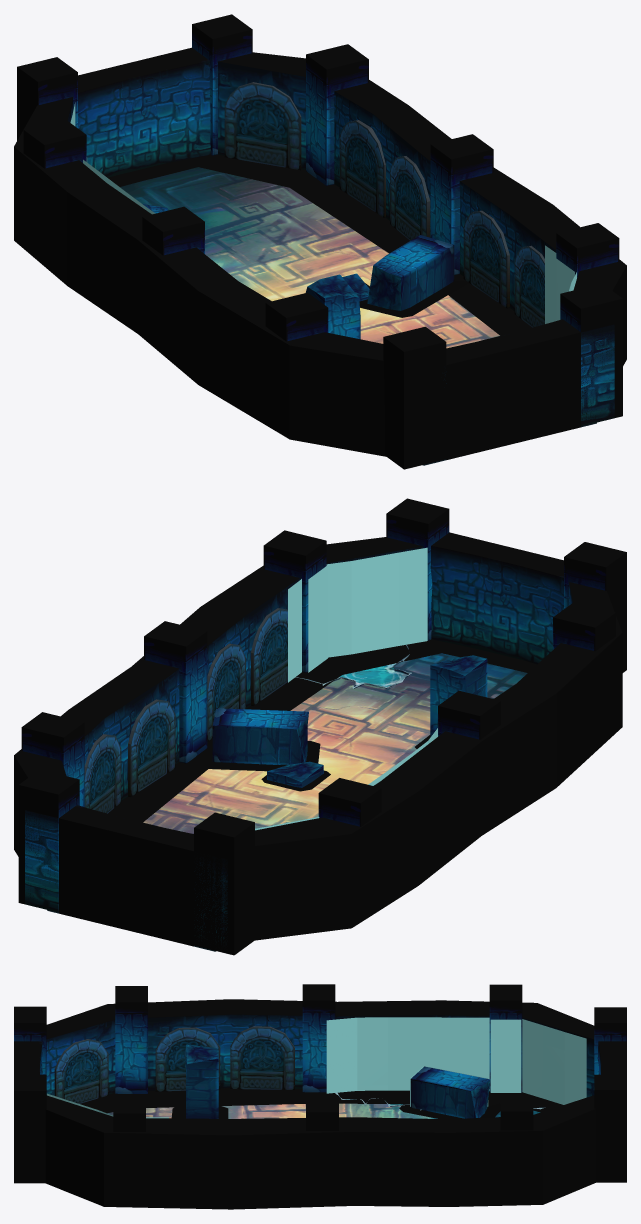
File: Dungeon_051_Road_002.fbx
3 views of the same model, one above another, from view 1: azimuth 30°, elevation 25°; view 2: azimuth 150°, elevation 25°; view 3: azimuth 270°, elevation 25° (orthographic). The views are drawn at different scales.
Parts seen in each view (by area): view 1: Dun_051_Road_002_Wall, Dun_051_Road_002_Pillar, Dun_051_Door_002 (×2), Dun_051_Road_002_Ground, Dun_051_Road_002_Wallobject, Dun_051_Road_002_shadow, Dun_051_Obj02_Pillar, Dun_051_Obj01_Pillar, Dun_051_Road_002_GroundWater_Terikaeshi, Dun_051_Obj02_Pillar_Shadow, Dun_011_Door_002_shadow; view 2: Dun_051_Road_002_Wall, Dun_051_Road_002_Pillar, Dun_051_Door_002 (×2), Dun_051_Road_002_Ground, Dun_051_Road_002_GroundWater_Terikaeshi, Dun_051_Road_002_Wallobject, Dun_051_Road_002_shadow, Dun_051_Obj02_Pillar, Dun_051_Obj01_Pillar, Dun_051_Obj02_Pillar_Shadow, Dun_051_Road_002_GroundWater, Dun_011_Door_002_shadow; view 3: Dun_051_Road_002_Wall, Dun_051_Road_002_Pillar, Dun_051_Road_002_GroundWater_Terikaeshi, Dun_051_Road_002_Wallobject, Dun_051_Road_002_shadow, Dun_051_Road_002_Ground, Dun_051_Obj01_Pillar, Dun_051_Door_002 (×2).
Boxes of the visible parts, x1,y1,x2,y2 form: Dun_051_Road_002_Wall: [14, 52, 626, 456]; Dun_051_Road_002_Pillar: [17, 14, 622, 469]; Dun_051_Door_002 (×2): [78, 47, 580, 459]; Dun_051_Road_002_Ground: [120, 167, 596, 465]; Dun_051_Road_002_Wallobject: [224, 82, 544, 327]; Dun_051_Road_002_shadow: [177, 154, 531, 335]; Dun_051_Obj02_Pillar: [342, 235, 454, 310]; Dun_051_Obj01_Pillar: [305, 274, 360, 339]; Dun_051_Road_002_GroundWater_Terikaeshi: [70, 102, 576, 323]; Dun_051_Obj02_Pillar_Shadow: [359, 274, 468, 317]; Dun_011_Door_002_shadow: [108, 161, 197, 186]; Dun_051_Road_002_Wall: [14, 537, 622, 952]; Dun_051_Road_002_Pillar: [18, 498, 626, 955]; Dun_051_Door_002 (×2): [59, 532, 563, 946]; Dun_051_Road_002_Ground: [47, 653, 527, 951]; Dun_051_Road_002_GroundWater_Terikaeshi: [255, 547, 437, 830]; Dun_051_Road_002_Wallobject: [84, 608, 287, 813]; Dun_051_Road_002_shadow: [108, 639, 536, 822]; Dun_051_Obj02_Pillar: [212, 708, 323, 787]; Dun_051_Obj01_Pillar: [430, 655, 487, 737]; Dun_051_Obj02_Pillar_Shadow: [195, 738, 330, 791]; Dun_051_Road_002_GroundWater: [295, 645, 411, 688]; Dun_011_Door_002_shadow: [442, 646, 532, 672]; Dun_051_Road_002_Wall: [45, 999, 596, 1209]; Dun_051_Road_002_Pillar: [14, 984, 626, 1183]; Dun_051_Road_002_GroundWater_Terikaeshi: [47, 1017, 586, 1118]; Dun_051_Road_002_Wallobject: [54, 1026, 294, 1103]; Dun_051_Road_002_shadow: [80, 1088, 562, 1119]; Dun_051_Road_002_Ground: [107, 1103, 540, 1118]; Dun_051_Obj01_Pillar: [186, 1044, 218, 1118]; Dun_051_Door_002 (×2): [14, 1041, 626, 1074].
Size of what is drawn, in the model's own units: 7.89 by 2.58 by 15.
